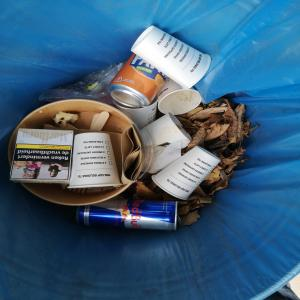Can: (71, 199, 181, 235), (108, 57, 165, 109)
Cup: (129, 25, 214, 90), (151, 145, 223, 202), (67, 132, 125, 192), (139, 113, 194, 148), (159, 88, 205, 117)
Trash: (10, 127, 73, 187)
